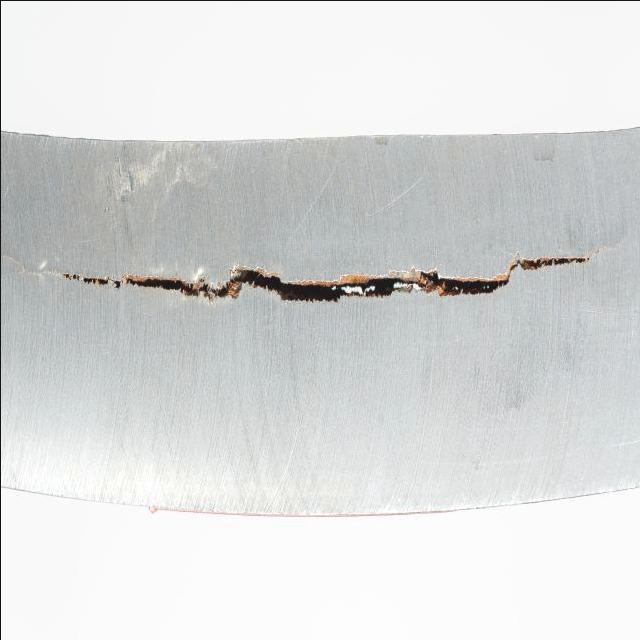defect: (59, 246, 597, 311)
